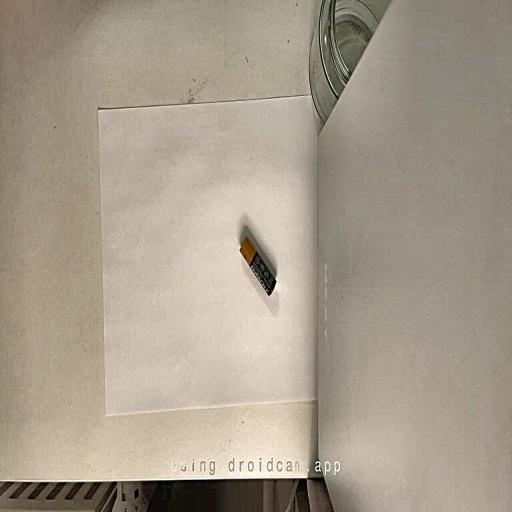DuracellAA: (240, 236, 276, 295)
